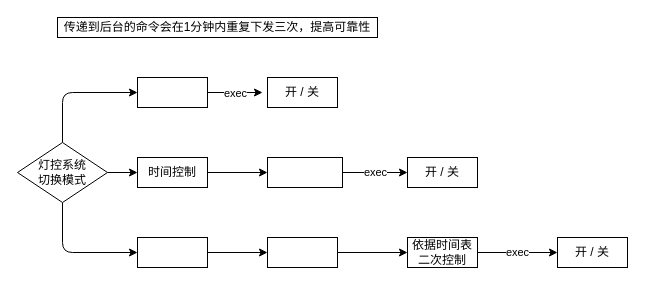
Some shapes in this 645 by 285 pixel diagram are drawn without their labels. The shapes that lost their labels are listed below. From the top down, each one's centre as x and y in pixels, then its label:
At (172,92): "手动控制".
At (304,172): "根据时间表来控制".
At (172,252): "光感控制".
At (302,252): "ddc依据光感控制".
